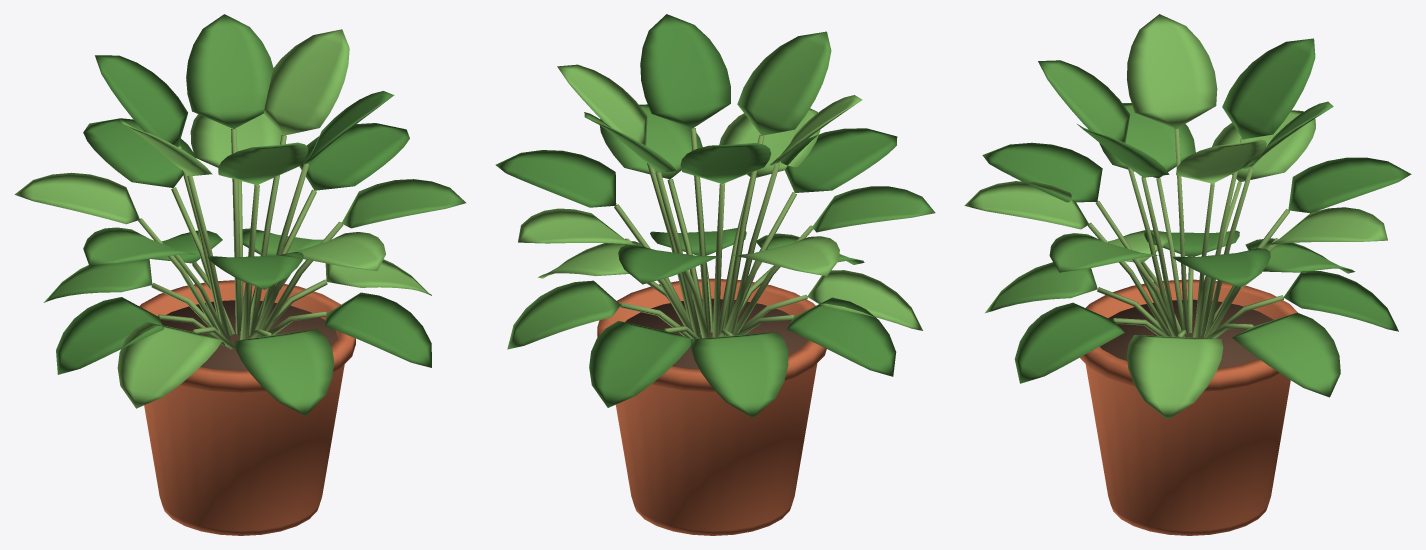
Rendered from plant.glb.
3 renders of one model, left to right at view 1: azimuth 30°, elevation 25°; view 2: azimuth 150°, elevation 25°; view 3: azimuth 270°, elevation 25°, orthographic.
Visible parts, largest first — view 1: plant; view 2: plant; view 3: plant.
Boxes of the visible parts, left/top/right/bottom form: plant: left=14, top=14, right=465, bottom=535; plant: left=495, top=14, right=935, bottom=535; plant: left=964, top=14, right=1411, bottom=535.
Bounding box in the file's own units: 0.7725 × 0.8251 × 0.7907.
